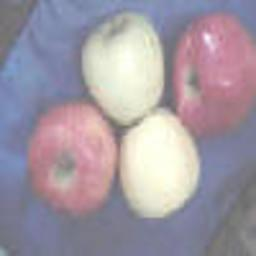apple: (25, 103, 118, 219), (168, 12, 253, 135)
